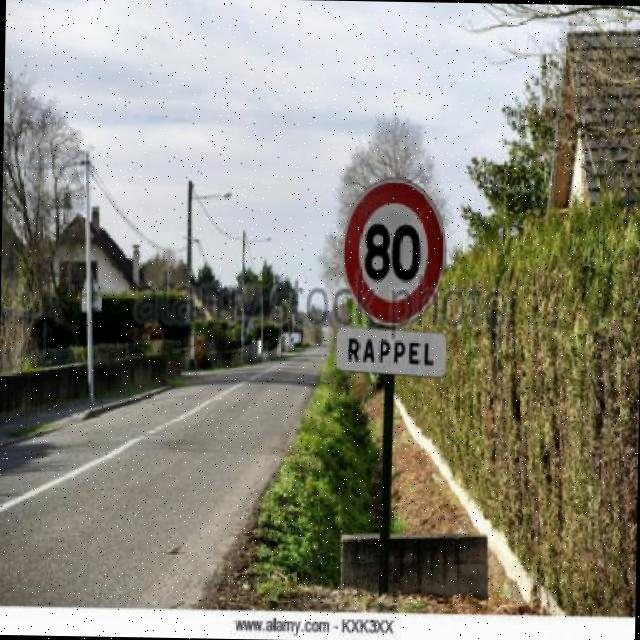Ograniczenie predkosci do 80: (346, 180, 446, 332)
